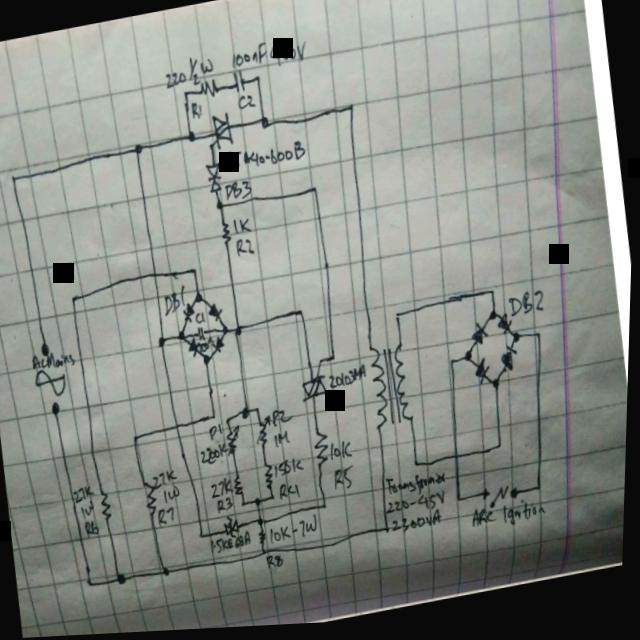capacitor: (232, 69, 246, 94), (198, 326, 208, 346)
crossover: (173, 419, 188, 439), (150, 268, 164, 288), (453, 452, 467, 471)
diode: (205, 162, 228, 197), (501, 348, 523, 379), (474, 360, 495, 392), (224, 514, 246, 544), (471, 326, 492, 352), (497, 317, 516, 341), (209, 302, 226, 326), (188, 337, 204, 362), (183, 303, 199, 327), (213, 338, 228, 358)
junction: (118, 572, 131, 588), (178, 328, 189, 344), (164, 565, 175, 580), (159, 336, 170, 351), (225, 416, 236, 431), (134, 143, 145, 157), (182, 89, 193, 103), (132, 435, 143, 449), (210, 411, 221, 425), (204, 355, 215, 369), (222, 325, 233, 339), (235, 325, 246, 339), (242, 407, 253, 421), (254, 405, 265, 419), (255, 497, 266, 511), (270, 492, 281, 506), (188, 130, 198, 145), (196, 291, 206, 306), (208, 141, 218, 156), (346, 104, 357, 117), (9, 172, 19, 186), (191, 265, 201, 279), (70, 294, 80, 308), (88, 577, 98, 591), (200, 531, 210, 545), (242, 500, 252, 514), (259, 516, 269, 530), (264, 547, 274, 561), (260, 118, 270, 132), (254, 75, 264, 89), (537, 486, 546, 501), (216, 201, 226, 214), (493, 382, 503, 395), (451, 360, 460, 374), (457, 496, 466, 510), (491, 313, 500, 326), (536, 335, 545, 348), (497, 443, 506, 456), (387, 526, 395, 540), (331, 354, 339, 368), (396, 314, 404, 328), (491, 289, 499, 303), (514, 334, 522, 348), (324, 503, 332, 516), (415, 462, 423, 475), (319, 358, 327, 371), (298, 310, 306, 323), (311, 186, 319, 199), (466, 354, 474, 367)
resistor: (313, 430, 335, 473), (255, 417, 278, 452), (226, 426, 247, 462), (144, 481, 162, 519), (198, 78, 221, 104), (101, 490, 117, 524), (220, 219, 235, 252), (265, 464, 279, 493), (234, 475, 248, 501), (259, 528, 271, 550)
terminal: (52, 399, 65, 419), (41, 340, 54, 360), (483, 490, 495, 508), (512, 489, 524, 507)
text: (384, 469, 455, 540), (229, 34, 310, 79), (225, 139, 309, 177), (473, 500, 551, 538), (163, 53, 217, 94), (153, 470, 188, 530), (74, 483, 104, 541), (270, 515, 323, 546), (31, 346, 79, 376), (509, 292, 548, 325), (211, 532, 256, 560), (211, 478, 241, 518), (233, 217, 259, 262), (329, 366, 370, 394), (163, 285, 191, 319), (201, 442, 235, 469), (224, 180, 256, 205), (276, 459, 308, 482), (335, 468, 360, 496), (279, 481, 305, 505), (331, 442, 356, 465), (273, 409, 297, 431), (237, 95, 258, 115), (276, 432, 295, 452), (199, 337, 217, 358), (269, 554, 287, 574), (211, 424, 227, 445), (190, 102, 204, 123), (195, 312, 210, 329)
thyristor: (301, 371, 334, 408), (211, 112, 237, 154)
transformer: (366, 341, 419, 437)
